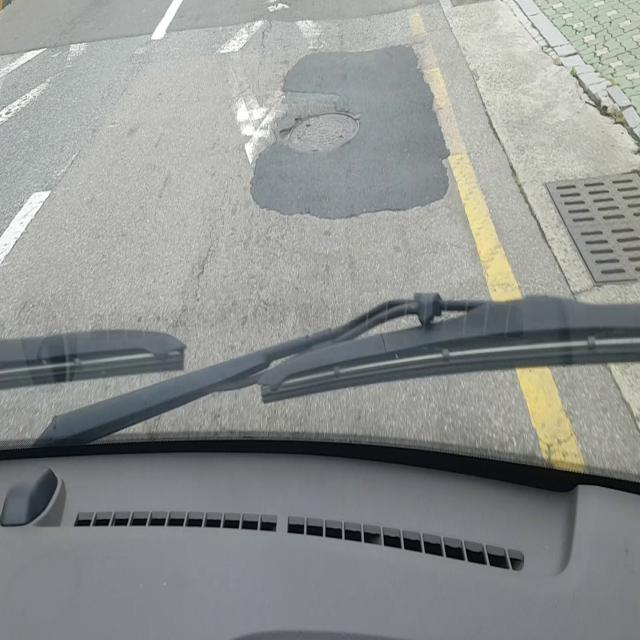Pothole: (279, 111, 362, 153)
